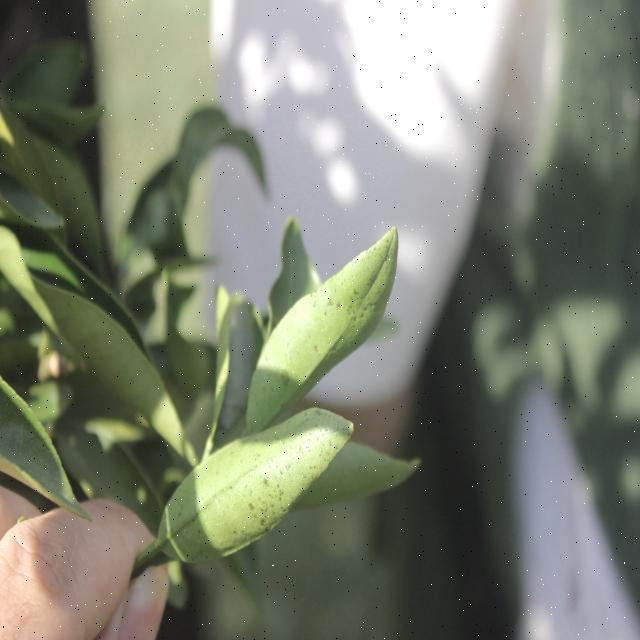melanose: (160, 385, 354, 592), (241, 219, 394, 427)
